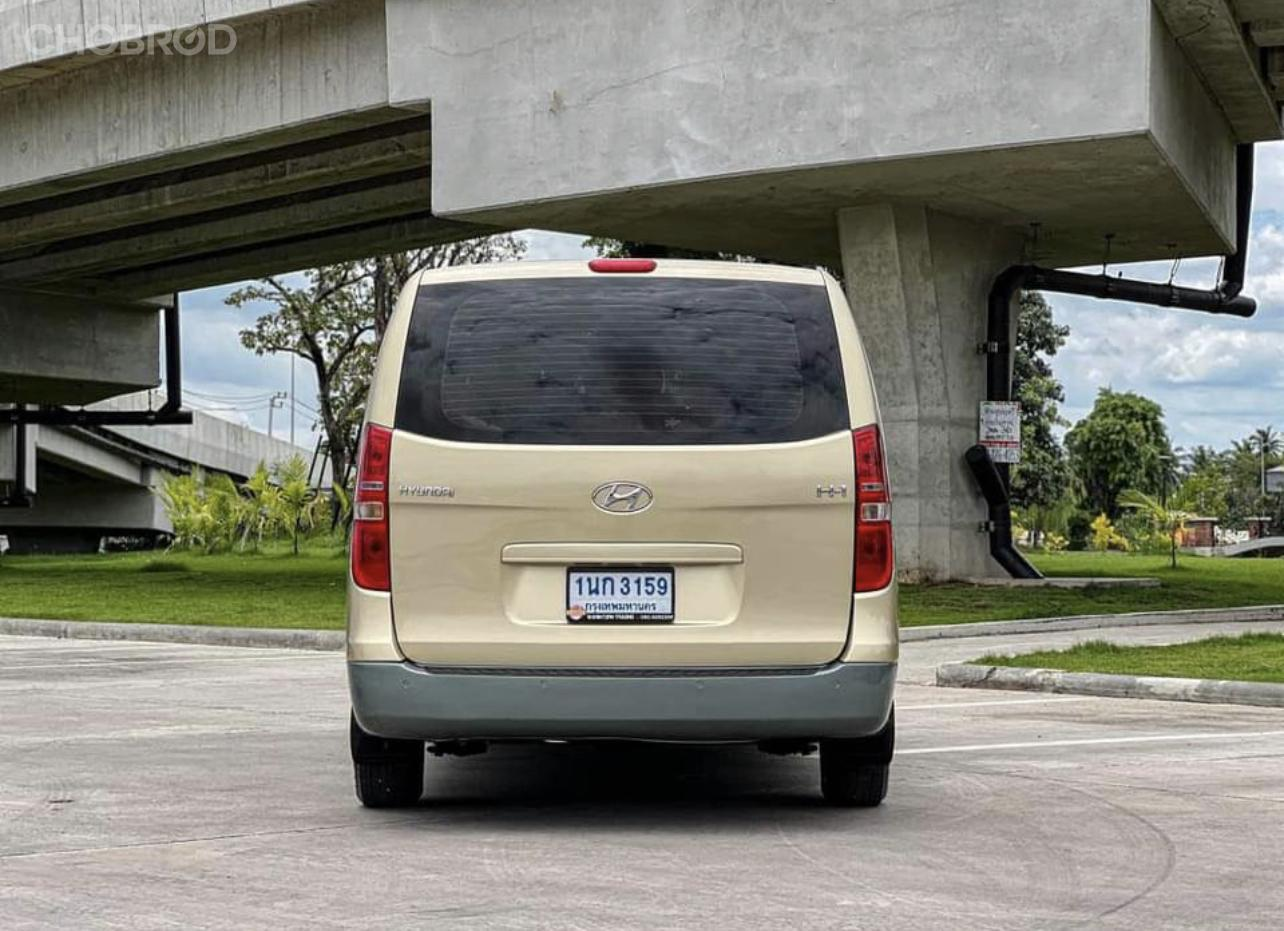license-plate: (565, 563, 675, 627)
